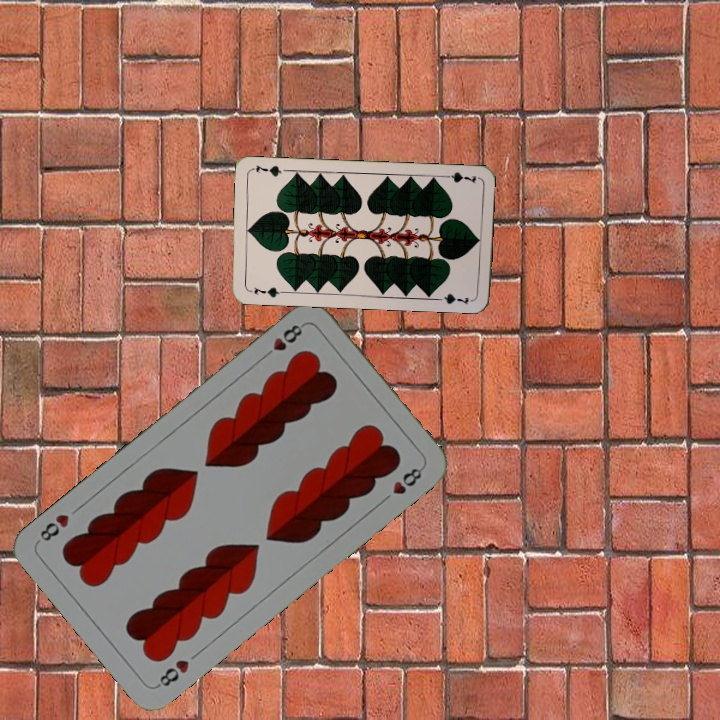G7: (438, 167, 479, 186), (245, 283, 286, 300)
H8: (258, 319, 308, 362), (152, 655, 192, 691)
